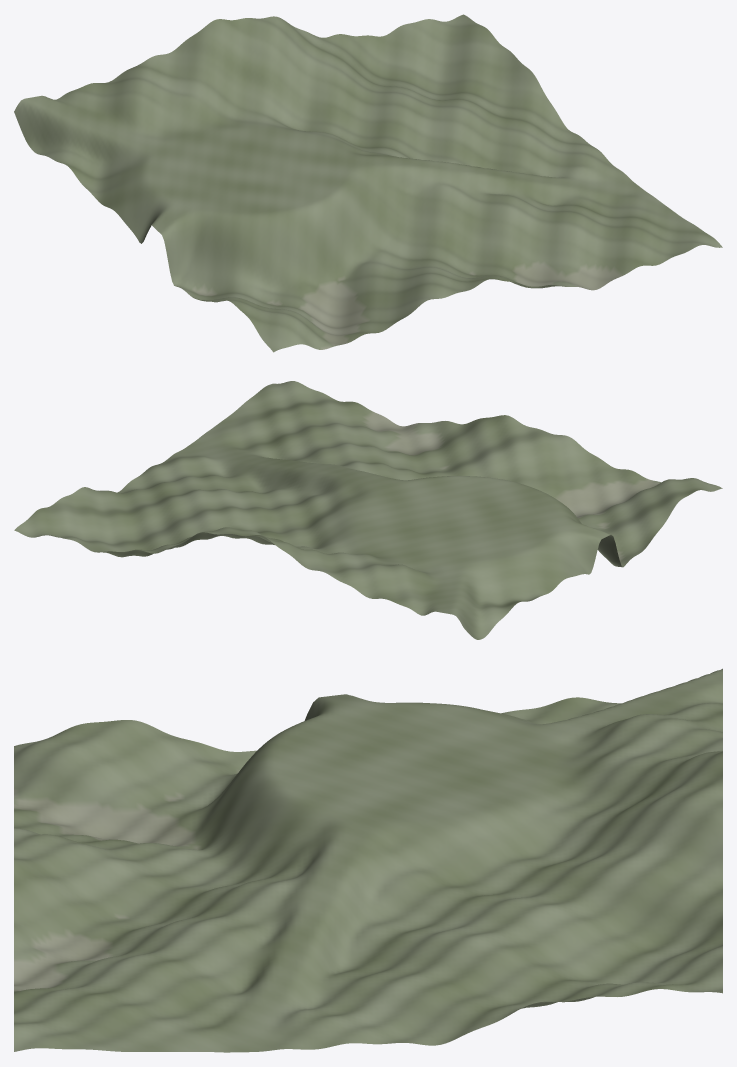
File: terrain_2_2.glb
3 renders of one model, top to bottom at view 1: azimuth 30°, elevation 25°; view 2: azimuth 150°, elevation 25°; view 3: azimuth 270°, elevation 25°, orthographic. The views are drawn at different scales.
Parts seen in each view (by area): view 1: terrain_2_2; view 2: terrain_2_2; view 3: terrain_2_2.
Boxes of the visible parts, x1,y1,x2,y2 form: terrain_2_2: (14, 14, 722, 352); terrain_2_2: (14, 381, 722, 639); terrain_2_2: (14, 668, 722, 1052).
Bounding box in the file's own units: 512 × 125 × 512.
